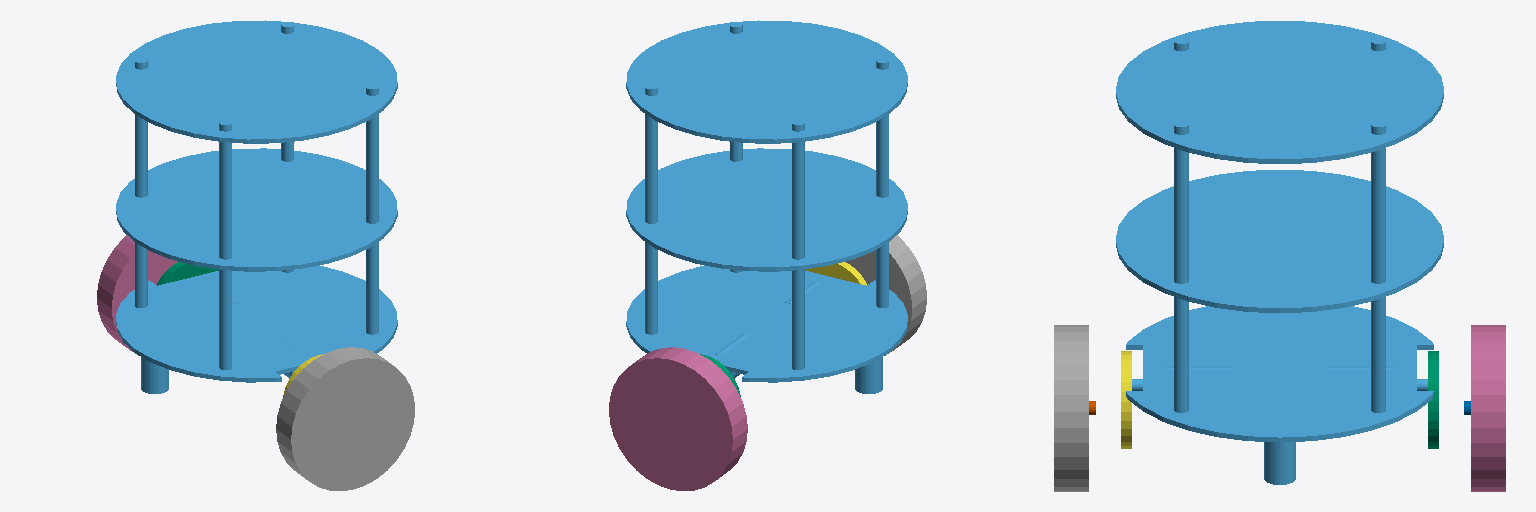
URDF robot description (turtlebot):
<?xml version="1.0" ?>
<!-- =================================================================================== -->
<!-- |    This document was autogenerated by xacro from chefbot.xacro                  | -->
<!-- |    EDITING THIS FILE BY HAND IS NOT RECOMMENDED                                 | -->
<!-- =================================================================================== -->
<!--
    - Base      : kobuki
    - Stacks    : hexagons
    - 3d Sensor : kinect
-->
<robot name="turtlebot" xmlns:xacro="http://ros.org/wiki/xacro">
  <!-- Need changes in chefbot base and circle -->
  <!--  <xacro:include filename="$(find create_description)/urdf/create.urdf.xacro"/> 
  <xacro:include filename="$(find kobuki_description)/urdf/kobuki.urdf.xacro" />
-->
  <!-- Stacks -->
  <!--  <xacro:include filename="$(find chefbot_description)/urdf/circles.urdf.xacro"/>  -->
  <!-- <xacro:include filename="$(find chefbot_description)/urdf/stacks/circles.urdf.xacro"/> -->
  <!--  <xacro:include filename="$(find turtlebot_description)/urdf/stacks/hexagons.urdf.xacro"/> -->
  <!-- 3D Sensors -->
  <link name="base_footprint"/>
  <!--
       Base link is set at the bottom of the base mould.
       This is done to be compatible with the way base link
       was configured for turtlebot 1. Refer to
       
       https://github.com/turtlebot/turtlebot/issues/40
       
       To put the base link at the more oft used wheel
       axis, set the z-distance from the base_footprint
       to 0.352.
      -->
  <joint name="base_joint" type="fixed">
    <origin rpy="0 0 0" xyz="0 0 0.0102"/>
    <parent link="base_footprint"/>
    <child link="base_link"/>
  </joint>
  <link name="base_link">
    <visual>
      <geometry>
        <!-- new mesh -->
        <mesh filename="package://chefbot/chefbot_description/mesh/base_plate.dae"/>
      </geometry>
      <!--        <origin xyz="0.001 0 0.05199" rpy="0 0 ${M_PI/2}"/> -->
      <origin rpy="0 0 1.57079632679" xyz="0.001 0 -0.034"/>
    </visual>
    <collision>
      <geometry>
        <cylinder length="0.10938" radius="0.178"/>
      </geometry>
      <origin rpy="0 0 0" xyz="0.0 0 0.05949"/>
    </collision>
    <inertial>
      <!-- COM experimentally determined -->
      <origin xyz="0.01 0 0"/>
      <mass value="2.4"/>
      <!-- 2.4/2.6 kg for small/big battery pack -->
      <!-- Kobuki's inertia tensor is approximated by a cylinder with homogeneous mass distribution
             More details: http://en.wikipedia.org/wiki/List_of_moment_of_inertia_tensors
             m = 2.4 kg; h = 0.09 m; r = 0.175 m
             ixx = 1/12 * m * (3 * r^2 + h^2)
             iyy = 1/12 * m * (3 * r^2 + h^2)
             izz = 1/2 * m * r^2 
          -->
      <inertia ixx="0.019995" ixy="0.0" ixz="0.0" iyy="0.019995" iyz="0.0" izz="0.03675"/>
    </inertial>
  </link>
  <joint name="wheel_left_joint" type="continuous">
    <parent link="base_link"/>
    <child link="chefbot_wheel_left_link"/>
    <origin rpy="-1.57079632679 0 0" xyz="0 0.14 0.026"/>
    <axis xyz="0 0 1"/>
  </joint>
  <link name="chefbot_wheel_left_link">
    <visual>
      <geometry>
        <mesh filename="package://chefbot/chefbot_description/mesh/wheel.dae"/>
      </geometry>
      <origin rpy="0 0 0" xyz="0 0 0"/>
    </visual>
    <collision>
      <geometry>
        <cylinder length="0.0206" radius="0.0352"/>
      </geometry>
      <origin rpy="0 0 0" xyz="0 0 0"/>
    </collision>
    <inertial>
      <mass value="0.01"/>
      <origin xyz="0 0 0"/>
      <inertia ixx="0.001" ixy="0.0" ixz="0.0" iyy="0.001" iyz="0.0" izz="0.001"/>
    </inertial>
  </link>
  <joint name="wheel_right_joint" type="continuous">
    <parent link="base_link"/>
    <child link="chefbot_wheel_right_link"/>
    <origin rpy="-1.57079632679 0 0" xyz="0.00 -0.14 0.026"/>
    <axis xyz="0 0 1"/>
  </joint>
  <link name="chefbot_wheel_right_link">
    <visual>
      <geometry>
        <mesh filename="package://chefbot/chefbot_description/mesh/wheel.dae"/>
      </geometry>
      <origin rpy="0 0 0" xyz="0 0 0"/>
    </visual>
    <collision>
      <geometry>
        <cylinder length="0.0206" radius="0.0350"/>
      </geometry>
      <origin rpy="0 0 0" xyz="0 0 0"/>
    </collision>
    <inertial>
      <mass value="0.01"/>
      <origin xyz="0 0 0"/>
      <inertia ixx="0.001" ixy="0.0" ixz="0.0" iyy="0.001" iyz="0.0" izz="0.001"/>
    </inertial>
  </link>
  <link name="left_axle_link">
    <inertial>
      <origin xyz="0 0 0"/>
      <mass value="0.01"/>
      <inertia ixx="0.001" ixy="0.0" ixz="0.0" iyy="0.001" iyz="0.0" izz="0.001"/>
    </inertial>
    <visual>
      <origin rpy="0 1.5707 1.5707" xyz="0 0 0"/>
      <geometry>
        <cylinder length="0.00635" radius="0.00635"/>
      </geometry>
      <material name="light_grey"/>
    </visual>
    <collision>
      <origin rpy="0 1.5707 1.5707" xyz="0 0 0"/>
      <geometry>
        <cylinder length="0.00635" radius="0.00635"/>
      </geometry>
    </collision>
  </link>
  <joint name="left_axle_joint" type="fixed">
    <origin rpy="0 0 0" xyz="0 0.171475 0.0178"/>
    <parent link="base_link"/>
    <child link="left_axle_link"/>
    <axis xyz="0 1 0"/>
  </joint>
  <link name="right_axle_link">
    <inertial>
      <origin xyz="0 0 0"/>
      <mass value="0.01"/>
      <inertia ixx="0.001" ixy="0.0" ixz="0.0" iyy="0.001" iyz="0.0" izz="0.001"/>
    </inertial>
    <visual>
      <origin rpy="0 1.5707 1.5707" xyz="0 0 0"/>
      <geometry>
        <cylinder length="0.00635" radius="0.00635"/>
      </geometry>
      <material name="light_grey"/>
    </visual>
    <collision>
      <origin rpy="0 1.5707 1.5707" xyz="0 0 0"/>
      <geometry>
        <cylinder length="0.00635" radius="0.00635"/>
      </geometry>
    </collision>
  </link>
  <joint name="right_axle_joint" type="fixed">
    <origin rpy="0 0 0" xyz="0 -0.171475 0.0178"/>
    <parent link="base_link"/>
    <child link="right_axle_link"/>
    <axis xyz="0 1 0"/>
  </joint>
  <link name="left_wheel_link">
    <inertial>
      <origin xyz="0 0 0"/>
      <mass value="0.01"/>
      <inertia ixx="0.001" ixy="0.0" ixz="0.0" iyy="0.001" iyz="0.0" izz="0.001"/>
    </inertial>
    <visual>
      <origin rpy="0 1.5707 1.5707" xyz="0 0 0"/>
      <geometry>
        <cylinder length="0.03175" radius="0.0762"/>
      </geometry>
      <material name="black"/>
    </visual>
    <collision>
      <origin rpy="0 1.5707 1.5707" xyz="0 0 0"/>
      <geometry>
        <cylinder length="0.03175" radius="0.0762"/>
      </geometry>
    </collision>
  </link>
  <joint name="left_wheel_joint" type="fixed">
    <origin rpy="0 0 0" xyz="0 0.01905 0"/>
    <parent link="left_axle_link"/>
    <child link="left_wheel_link"/>
    <axis xyz="0 1 0"/>
  </joint>
  <link name="right_wheel_link">
    <inertial>
      <origin xyz="0 0 0"/>
      <mass value="0.01"/>
      <inertia ixx="0.001" ixy="0.0" ixz="0.0" iyy="0.001" iyz="0.0" izz="0.001"/>
    </inertial>
    <visual>
      <origin rpy="0 1.5707 1.5707" xyz="0 0 0"/>
      <geometry>
        <cylinder length="0.03175" radius="0.0762"/>
      </geometry>
      <material name="black"/>
    </visual>
    <collision>
      <origin rpy="0 1.5707 1.5707" xyz="0 0 0"/>
      <geometry>
        <cylinder length="0.03175" radius="0.0762"/>
      </geometry>
    </collision>
  </link>
  <!-- Fixed because we never rotate it anyway, it is just for show -->
  <!-- NOTE This may prevent gazebo from working with this model -->
  <joint name="right_wheel_joint" type="fixed">
    <origin rpy="0 0 0" xyz="0 -0.01905 0"/>
    <parent link="right_axle_link"/>
    <child link="right_wheel_link"/>
    <axis xyz="0 1 0"/>
  </joint>
  <joint name="caster_front_joint" type="fixed">
    <parent link="base_link"/>
    <child link="chefbot_caster_front_link"/>
    <origin rpy="-1.57079632679 0 0" xyz="0.115 0.0 0.007"/>
  </joint>
  <link name="chefbot_caster_front_link">
    <collision>
      <geometry>
        <cylinder length="0.0176" radius="0.017"/>
      </geometry>
      <origin rpy="0 0 0" xyz="0 0 0"/>
    </collision>
    <inertial>
      <mass value="0.01"/>
      <origin xyz="0 0 0"/>
      <inertia ixx="0.001" ixy="0.0" ixz="0.0" iyy="0.001" iyz="0.0" izz="0.001"/>
    </inertial>
  </link>
  <joint name="chefbot_caster_back_joint" type="fixed">
    <parent link="base_link"/>
    <child link="chefbot_caster_back_link"/>
    <origin rpy="-1.57079632679 0 0" xyz="-0.135 0.0 0.009"/>
  </joint>
  <link name="chefbot_caster_back_link">
    <collision>
      <geometry>
        <cylinder length="0.0176" radius="0.017"/>
      </geometry>
      <origin rpy="0 0 0" xyz="0 0 0"/>
    </collision>
    <inertial>
      <mass value="0.01"/>
      <origin xyz="0 0 0"/>
      <inertia ixx="0.001" ixy="0.0" ixz="0.0" iyy="0.001" iyz="0.0" izz="0.001"/>
    </inertial>
  </link>
  <!-- Kobuki's sensors -->
  <joint name="gyro_joint" type="fixed">
    <axis xyz="0 1 0"/>
    <origin rpy="0 0 0" xyz="0.056 0.062 0.0202"/>
    <parent link="base_link"/>
    <child link="gyro_link"/>
  </joint>
  <link name="gyro_link">
    <inertial>
      <mass value="0.001"/>
      <origin rpy="0 0 0" xyz="0 0 0"/>
      <inertia ixx="0.0001" ixy="0" ixz="0" iyy="0.000001" iyz="0" izz="0.0001"/>
    </inertial>
  </link>
  <joint name="cliff_sensor_left_joint" type="fixed">
    <origin rpy="0 1.57079632679 0" xyz="0.08734 0.13601 0.0214"/>
    <parent link="base_link"/>
    <child link="cliff_sensor_left_link"/>
  </joint>
  <link name="cliff_sensor_left_link">
    <inertial>
      <mass value="0.0001"/>
      <origin xyz="0 0 0"/>
      <inertia ixx="0.0001" ixy="0.0" ixz="0.0" iyy="0.0001" iyz="0.0" izz="0.0001"/>
    </inertial>
  </link>
  <joint name="cliff_sensor_right_joint" type="fixed">
    <origin rpy="0 1.57079632679 0" xyz="0.085 -0.13601 0.0214"/>
    <parent link="base_link"/>
    <child link="cliff_sensor_right_link"/>
  </joint>
  <link name="cliff_sensor_right_link">
    <inertial>
      <mass value="0.0001"/>
      <origin xyz="0 0 0"/>
      <inertia ixx="0.0001" ixy="0.0" ixz="0.0" iyy="0.0001" iyz="0.0" izz="0.0001"/>
    </inertial>
  </link>
  <joint name="cliff_sensor_front_joint" type="fixed">
    <origin rpy="0 1.57079632679 0" xyz="0.156 0.00 0.0214"/>
    <parent link="base_link"/>
    <child link="cliff_sensor_front_link"/>
  </joint>
  <link name="cliff_sensor_front_link">
    <inertial>
      <mass value="0.0001"/>
      <origin xyz="0 0 0"/>
      <inertia ixx="0.0001" ixy="0.0" ixz="0.0" iyy="0.0001" iyz="0.0" izz="0.0001"/>
    </inertial>
  </link>
  <gazebo reference="chefbot_wheel_left_link">
    <mu1>1.0</mu1>
    <mu2>1.0</mu2>
    <kp>1000000.0</kp>
    <kd>100.0</kd>
    <minDepth>0.001</minDepth>
    <maxVel>1.0</maxVel>
  </gazebo>
  <gazebo reference="chefbot_wheel_right_link">
    <mu1>1.0</mu1>
    <mu2>1.0</mu2>
    <kp>1000000.0</kp>
    <kd>100.0</kd>
    <minDepth>0.001</minDepth>
    <maxVel>1.0</maxVel>
  </gazebo>
  <gazebo reference="chefbot_caster_front_link">
    <mu1>0.0</mu1>
    <mu2>0.0</mu2>
    <kp>1000000.0</kp>
    <kd>100.0</kd>
    <minDepth>0.001</minDepth>
    <maxVel>1.0</maxVel>
  </gazebo>
  <gazebo reference="chefbot_caster_back_link">
    <mu1>0.0</mu1>
    <mu2>0.0</mu2>
    <kp>1000000.0</kp>
    <kd>100.0</kd>
    <minDepth>0.001</minDepth>
    <maxVel>1.0</maxVel>
  </gazebo>
  <gazebo reference="base_link">
    <mu1>0.3</mu1>
    <mu2>0.3</mu2>
    <sensor name="bumpers" type="contact">
      <always_on>1</always_on>
      <update_rate>50.0</update_rate>
      <visualize>true</visualize>
      <contact>
        <collision>base_footprint_collision_base_link</collision>
      </contact>
    </sensor>
  </gazebo>
  <gazebo reference="cliff_sensor_left_link">
    <sensor name="cliff_sensor_left" type="ray">
      <always_on>true</always_on>
      <update_rate>50</update_rate>
      <visualize>true</visualize>
      <ray>
        <scan>
          <horizontal>
            <samples>50</samples>
            <resolution>1.0</resolution>
            <min_angle>-0.0436</min_angle>
            <!-- -2.5 degree -->
            <max_angle>0.0436</max_angle>
            <!-- 2.5 degree -->
          </horizontal>
          <!--            Can't use vertical rays until this bug is resolved: -->
          <!--            https://bitbucket.org/osrf/gazebo/issue/509/vertical-sensor-doesnt-works -->
          <!-- 	          <vertical> -->
          <!-- 	            <samples>50</samples> -->
          <!-- 	            <resolution>1.0</resolution> -->
          <!-- 	            <min_angle>-0.0436</min_angle>  -2.5 degree -->
          <!-- 	            <max_angle>0.0436</max_angle> 2.5 degree -->
          <!-- 	          </vertical> -->
        </scan>
        <range>
          <min>0.01</min>
          <max>0.15</max>
          <resolution>1.0</resolution>
        </range>
      </ray>
    </sensor>
  </gazebo>
  <gazebo reference="cliff_sensor_right_link">
    <sensor name="cliff_sensor_right" type="ray">
      <always_on>true</always_on>
      <update_rate>50</update_rate>
      <visualize>true</visualize>
      <ray>
        <scan>
          <horizontal>
            <samples>50</samples>
            <resolution>1.0</resolution>
            <min_angle>-0.0436</min_angle>
            <!-- -2.5 degree -->
            <max_angle>0.0436</max_angle>
            <!-- 2.5 degree -->
          </horizontal>
          <!--            Can't use vertical rays until this bug is resolved: -->
          <!--            https://bitbucket.org/osrf/gazebo/issue/509/vertical-sensor-doesnt-works -->
          <!-- 	          <vertical> -->
          <!-- 	            <samples>50</samples> -->
          <!-- 	            <resolution>1.0</resolution> -->
          <!-- 	            <min_angle>-0.0436</min_angle>  -2.5 degree -->
          <!-- 	            <max_angle>0.0436</max_angle> 2.5 degree -->
          <!-- 	          </vertical> -->
        </scan>
        <range>
          <min>0.01</min>
          <max>0.15</max>
          <resolution>1.0</resolution>
        </range>
      </ray>
    </sensor>
  </gazebo>
  <gazebo reference="cliff_sensor_front_link">
    <sensor name="cliff_sensor_front" type="ray">
      <always_on>true</always_on>
      <update_rate>50</update_rate>
      <visualize>true</visualize>
      <ray>
        <scan>
          <horizontal>
            <samples>50</samples>
            <resolution>1.0</resolution>
            <min_angle>-0.0436</min_angle>
            <!-- -2.5 degree -->
            <max_angle>0.0436</max_angle>
            <!-- 2.5 degree -->
          </horizontal>
          <!-- 	          Can't use vertical rays until this bug is resolved: -->
          <!--            https://bitbucket.org/osrf/gazebo/issue/509/vertical-sensor-doesnt-works -->
          <!-- 	          <vertical> -->
          <!-- 	            <samples>50</samples> -->
          <!-- 	            <resolution>1.0</resolution> -->
          <!-- 	            <min_angle>-0.0436</min_angle>  -2.5 degree -->
          <!-- 	            <max_angle>0.0436</max_angle> 2.5 degree -->
          <!-- 	          </vertical> -->
        </scan>
        <range>
          <min>0.01</min>
          <max>0.15</max>
          <resolution>1.0</resolution>
        </range>
      </ray>
    </sensor>
  </gazebo>
  <gazebo reference="gyro_link">
    <sensor name="imu" type="imu">
      <always_on>true</always_on>
      <update_rate>50</update_rate>
      <visualize>false</visualize>
      <imu>
        <noise>
          <type>gaussian</type>
          <rate>
            <mean>0.0</mean>
            <stddev>1.96e-06</stddev>
            <!-- 0.25 x 0.25 (deg/s) -->
            <bias_mean>0.0</bias_mean>
            <bias_stddev>0.0</bias_stddev>
          </rate>
          <accel>
            <!-- not used in the plugin and real robot, hence using tutorial values -->
            <mean>0.0</mean>
            <stddev>1.7e-2</stddev>
            <bias_mean>0.1</bias_mean>
            <bias_stddev>0.001</bias_stddev>
          </accel>
        </noise>
      </imu>
    </sensor>
  </gazebo>
  <gazebo>
    <plugin filename="libgazebo_ros_kobuki.so" name="kobuki_controller">
      <publish_tf>1</publish_tf>
      <left_wheel_joint_name>wheel_left_joint</left_wheel_joint_name>
      <right_wheel_joint_name>wheel_right_joint</right_wheel_joint_name>
      <wheel_separation>.30</wheel_separation>
      <wheel_diameter>0.09</wheel_diameter>
      <torque>18.0</torque>
      <velocity_command_timeout>0.6</velocity_command_timeout>
      <cliff_sensor_left_name>cliff_sensor_left</cliff_sensor_left_name>
      <cliff_sensor_center_name>cliff_sensor_front</cliff_sensor_center_name>
      <cliff_sensor_right_name>cliff_sensor_right</cliff_sensor_right_name>
      <cliff_detection_threshold>0.04</cliff_detection_threshold>
      <bumper_name>bumpers</bumper_name>
      <imu_name>imu</imu_name>
    </plugin>
  </gazebo>
  <stack_hexagons parent="base_link"/>
  <joint name="camera_rgb_joint" type="fixed">
    <origin rpy="0 0 0" xyz="-0.087 -0.0125 0.287"/>
    <parent link="base_link"/>
    <child link="camera_rgb_frame"/>
  </joint>
  <link name="camera_rgb_frame">
    <inertial>
      <mass value="0.001"/>
      <origin xyz="0 0 0"/>
      <inertia ixx="0.0001" ixy="0.0" ixz="0.0" iyy="0.0001" iyz="0.0" izz="0.0001"/>
    </inertial>
  </link>
  <joint name="camera_rgb_optical_joint" type="fixed">
    <origin rpy="-1.57079632679 0 -1.57079632679" xyz="0 0 0"/>
    <parent link="camera_rgb_frame"/>
    <child link="camera_rgb_optical_frame"/>
  </joint>
  <link name="camera_rgb_optical_frame">
    <inertial>
      <mass value="0.001"/>
      <origin xyz="0 0 0"/>
      <inertia ixx="0.0001" ixy="0.0" ixz="0.0" iyy="0.0001" iyz="0.0" izz="0.0001"/>
    </inertial>
  </link>
  <joint name="camera_joint" type="fixed">
    <origin rpy="0 0 0" xyz="-0.031 0.0125 -0.016"/>
    <parent link="camera_rgb_frame"/>
    <child link="camera_link"/>
  </joint>
  <link name="camera_link">
    <visual>
      <origin rpy="0 0 1.57079632679" xyz="0 0 0"/>
    </visual>
    <collision>
      <origin rpy="0 0 0" xyz="0.0 0.0 0.0"/>
      <geometry>
        <box size="0.07271 0.27794 0.073"/>
      </geometry>
    </collision>
    <inertial>
      <mass value="0.001"/>
      <origin xyz="0 0 0"/>
      <inertia ixx="0.0001" ixy="0.0" ixz="0.0" iyy="0.0001" iyz="0.0" izz="0.0001"/>
    </inertial>
  </link>
  <!-- The fixed joints & links below are usually published by static_transformers launched by the OpenNi launch 
       files. However, for Gazebo simulation we need them, so we add them here.
       (Hence, don't publish them additionally!) -->
  <joint name="camera_depth_joint" type="fixed">
    <origin rpy="0 0 0" xyz="0 0.025 0"/>
    <parent link="camera_rgb_frame"/>
    <child link="camera_depth_frame"/>
  </joint>
  <link name="camera_depth_frame">
    <inertial>
      <mass value="0.001"/>
      <origin xyz="0 0 0"/>
      <inertia ixx="0.0001" ixy="0.0" ixz="0.0" iyy="0.0001" iyz="0.0" izz="0.0001"/>
    </inertial>
  </link>
  <joint name="camera_depth_optical_joint" type="fixed">
    <origin rpy="-1.57079632679 0 -1.57079632679" xyz="0 0 0"/>
    <parent link="camera_depth_frame"/>
    <child link="camera_depth_optical_frame"/>
  </joint>
  <link name="camera_depth_optical_frame">
    <inertial>
      <mass value="0.001"/>
      <origin xyz="0 0 0"/>
      <inertia ixx="0.0001" ixy="0.0" ixz="0.0" iyy="0.0001" iyz="0.0" izz="0.0001"/>
    </inertial>
  </link>
  <gazebo reference="camera_link">
    <sensor name="camera" type="depth">
      <always_on>true</always_on>
      <update_rate>20.0</update_rate>
      <camera>
        <horizontal_fov>1.0471975512</horizontal_fov>
        <image>
          <format>R8G8B8</format>
          <width>640</width>
          <height>480</height>
        </image>
        <clip>
          <near>0.05</near>
          <far>8.0</far>
        </clip>
      </camera>
      <plugin filename="libgazebo_ros_openni_kinect.so" name="kinect_camera_controller">
        <cameraName>camera</cameraName>
        <alwaysOn>true</alwaysOn>
        <updateRate>10</updateRate>
        <imageTopicName>rgb/image_raw</imageTopicName>
        <depthImageTopicName>depth/image_raw</depthImageTopicName>
        <pointCloudTopicName>depth/points</pointCloudTopicName>
        <cameraInfoTopicName>rgb/camera_info</cameraInfoTopicName>
        <depthImageCameraInfoTopicName>depth/camera_info</depthImageCameraInfoTopicName>
        <frameName>camera_depth_optical_frame</frameName>
        <baseline>0.1</baseline>
        <distortion_k1>0.0</distortion_k1>
        <distortion_k2>0.0</distortion_k2>
        <distortion_k3>0.0</distortion_k3>
        <distortion_t1>0.0</distortion_t1>
        <distortion_t2>0.0</distortion_t2>
        <pointCloudCutoff>0.4</pointCloudCutoff>
      </plugin>
    </sensor>
  </gazebo>
  <!--
   ======================================================================
   - REP 119 : Rgb camera link relative to the Base link 
   ====================================================================== 
     Base link is currently defined as the rotational centre on the bottom
     of the base mould. For both create and kobuki this is actually exactly
     the same 3d world point. 
     
     This may cause an issue with a base with much different floor clearance.
     Should we be using base_footprint for this specification instead?
 
     Note: REP needs to be updated with the information below 
     (currently in development and awaiting feedback)
   -->
</robot>

--- Facts derived from the render (not from the file) ---
3 views of the same robot in one strip: view 1: azimuth 30°, elevation 25°; view 2: azimuth 150°, elevation 25°; view 3: azimuth 270°, elevation 25° (orthographic).
Model turtlebot with 19 links and 18 joints (2 continuous, 16 fixed), rooted at base_footprint, posed all joints at 0.
Visible links, largest first — view 1: base_link, right_wheel_link, left_wheel_link, chefbot_wheel_left_link; view 2: base_link, left_wheel_link, right_wheel_link, chefbot_wheel_right_link; view 3: base_link, left_wheel_link, right_wheel_link, chefbot_wheel_left_link, chefbot_wheel_right_link.
Boxes of the visible links, x1,y1,x2,y2 form: base_link: (116, 20, 397, 393); right_wheel_link: (276, 347, 414, 490); left_wheel_link: (97, 235, 177, 355); chefbot_wheel_left_link: (157, 262, 218, 285); base_link: (626, 20, 907, 393); left_wheel_link: (609, 347, 747, 490); right_wheel_link: (846, 235, 926, 355); chefbot_wheel_right_link: (805, 262, 866, 285); base_link: (1116, 21, 1443, 484); left_wheel_link: (1471, 325, 1505, 491); right_wheel_link: (1054, 325, 1088, 491); chefbot_wheel_left_link: (1428, 351, 1438, 448); chefbot_wheel_right_link: (1121, 351, 1131, 448).
Size in the robot's own frame: 0.3 by 0.4128 by 0.4044 metres.
Meshes: 2 distinct files referenced, 3 mesh visuals loaded (2 Collada DAE).
